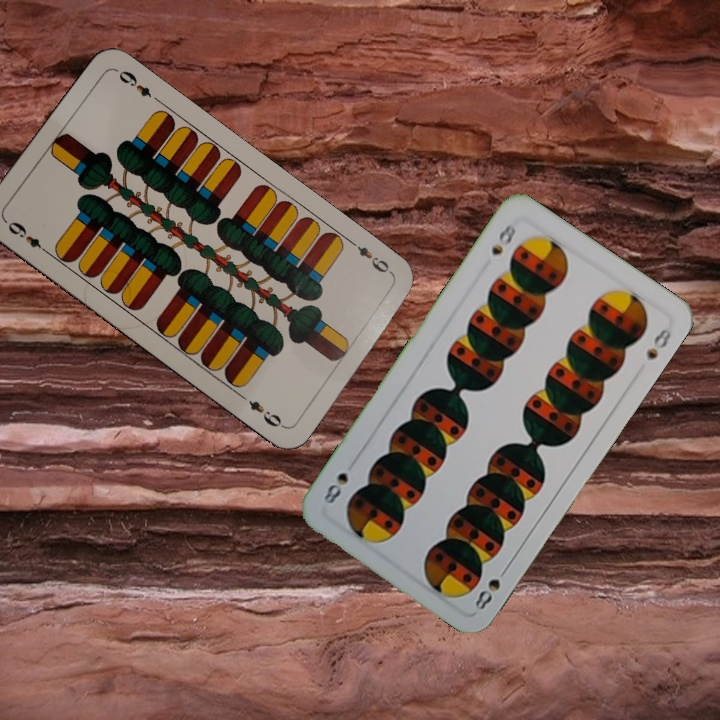E9: (347, 237, 397, 279), (1, 217, 52, 257)
S8: (470, 561, 512, 613), (487, 220, 519, 258)
